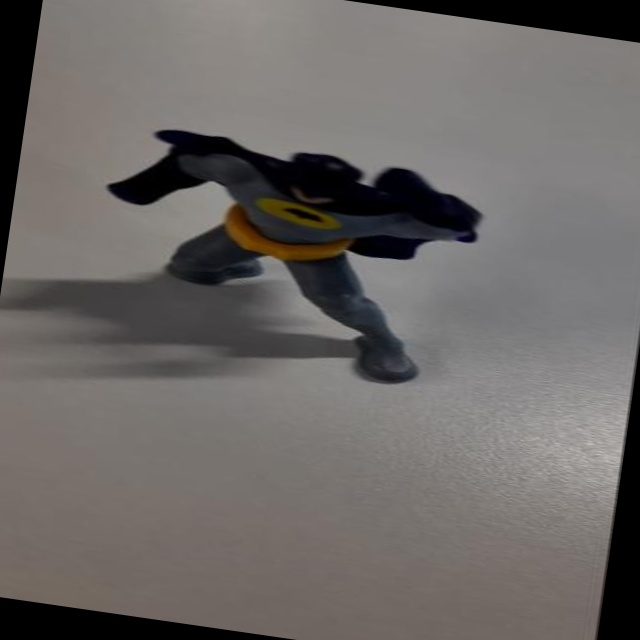Batman: (63, 103, 516, 431)
